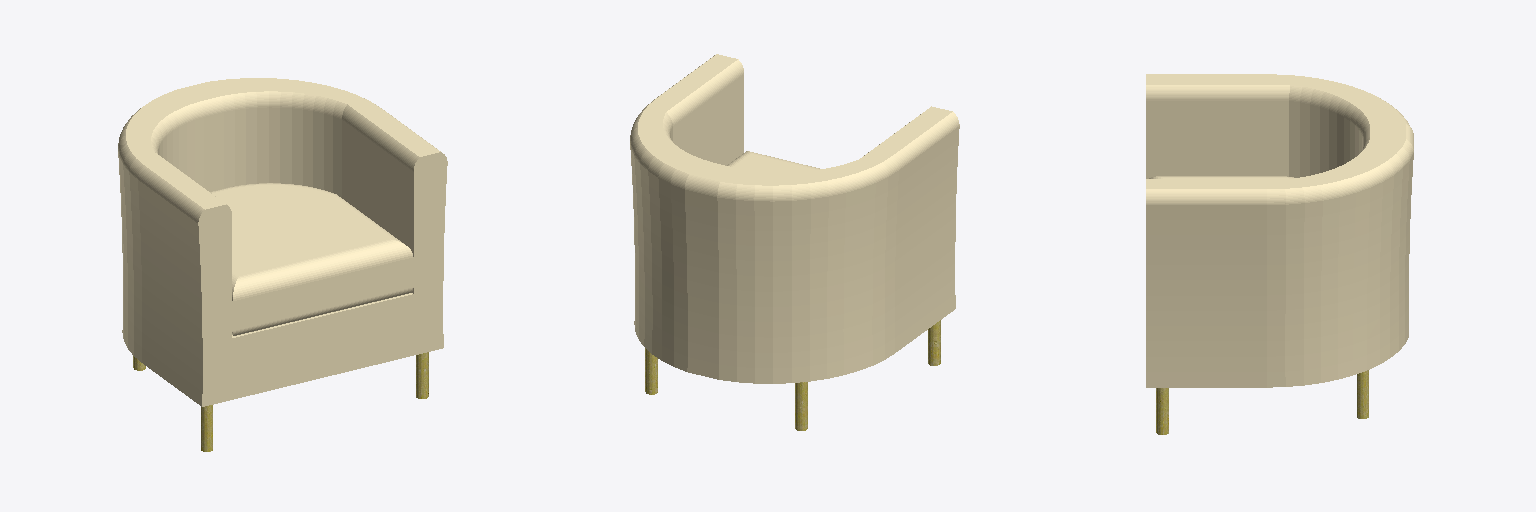
The picture shows the model from 3 angles: view 1: azimuth 30°, elevation 25°; view 2: azimuth 150°, elevation 25°; view 3: azimuth 270°, elevation 25°; orthographic projection.
Parts seen in each view (by area): view 1: Mesh2 CHAIR1 Solsta_Olarp1 Model, Mesh6 CUSHION1 Solsta_Olarp1 Model, Mesh3 CHAIR1 Solsta_Olarp1 Model, Mesh1 CHAIR1 Solsta_Olarp1 Model; view 2: Mesh2 CHAIR1 Solsta_Olarp1 Model, Mesh6 CUSHION1 Solsta_Olarp1 Model, Mesh5 CHAIR1 Solsta_Olarp1 Model, Mesh1 CHAIR1 Solsta_Olarp1 Model, Mesh4 CHAIR1 Solsta_Olarp1 Model; view 3: Mesh2 CHAIR1 Solsta_Olarp1 Model, Mesh3 CHAIR1 Solsta_Olarp1 Model, Mesh4 CHAIR1 Solsta_Olarp1 Model.
Boxes of the visible parts, x1,y1,x2,y2 form: Mesh2 CHAIR1 Solsta_Olarp1 Model: [118, 78, 447, 406]; Mesh6 CUSHION1 Solsta_Olarp1 Model: [210, 183, 413, 335]; Mesh3 CHAIR1 Solsta_Olarp1 Model: [416, 352, 428, 398]; Mesh1 CHAIR1 Solsta_Olarp1 Model: [201, 405, 212, 451]; Mesh2 CHAIR1 Solsta_Olarp1 Model: [630, 54, 959, 383]; Mesh6 CUSHION1 Solsta_Olarp1 Model: [727, 151, 819, 171]; Mesh5 CHAIR1 Solsta_Olarp1 Model: [795, 382, 807, 430]; Mesh1 CHAIR1 Solsta_Olarp1 Model: [928, 320, 940, 365]; Mesh4 CHAIR1 Solsta_Olarp1 Model: [645, 348, 657, 394]; Mesh2 CHAIR1 Solsta_Olarp1 Model: [1146, 74, 1413, 387]; Mesh3 CHAIR1 Solsta_Olarp1 Model: [1156, 388, 1168, 434]; Mesh4 CHAIR1 Solsta_Olarp1 Model: [1357, 370, 1368, 418].
Size of the model in its own units: 26 by 24.75 by 24.21.
2 materials, 1 textured.